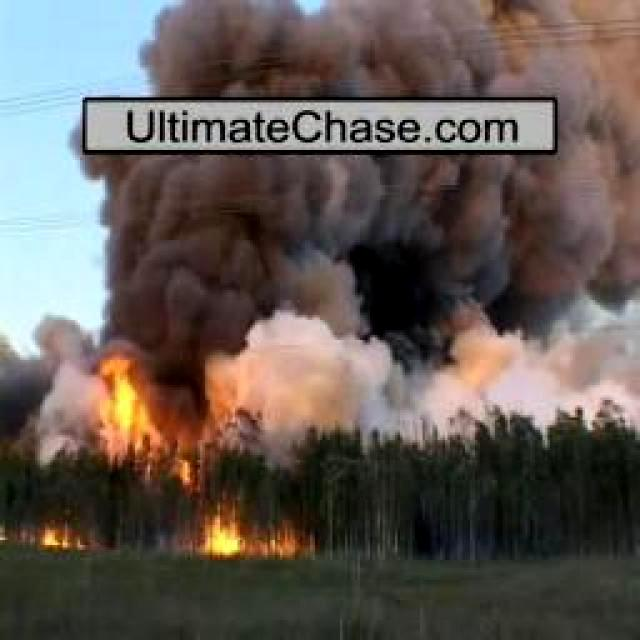fire: (97, 343, 195, 481), (202, 500, 242, 552), (45, 518, 75, 550), (274, 532, 302, 556)
